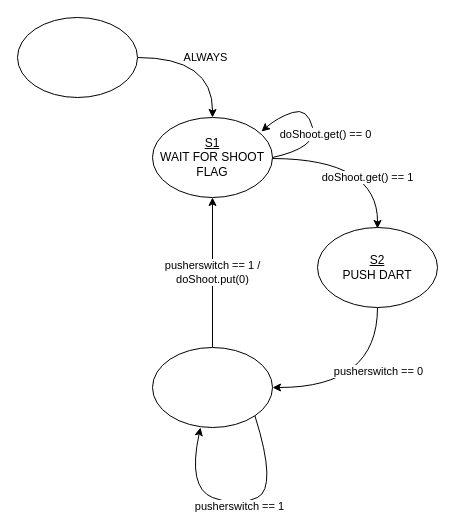
Image size: 455x531. Some labels were removed from this diagram. The centre of each missing label's shape, as x and y in pixels:
S0 INIT: point (77, 57)
S3 CHECK PUSHER LIMIT SWITCH: point (212, 387)
